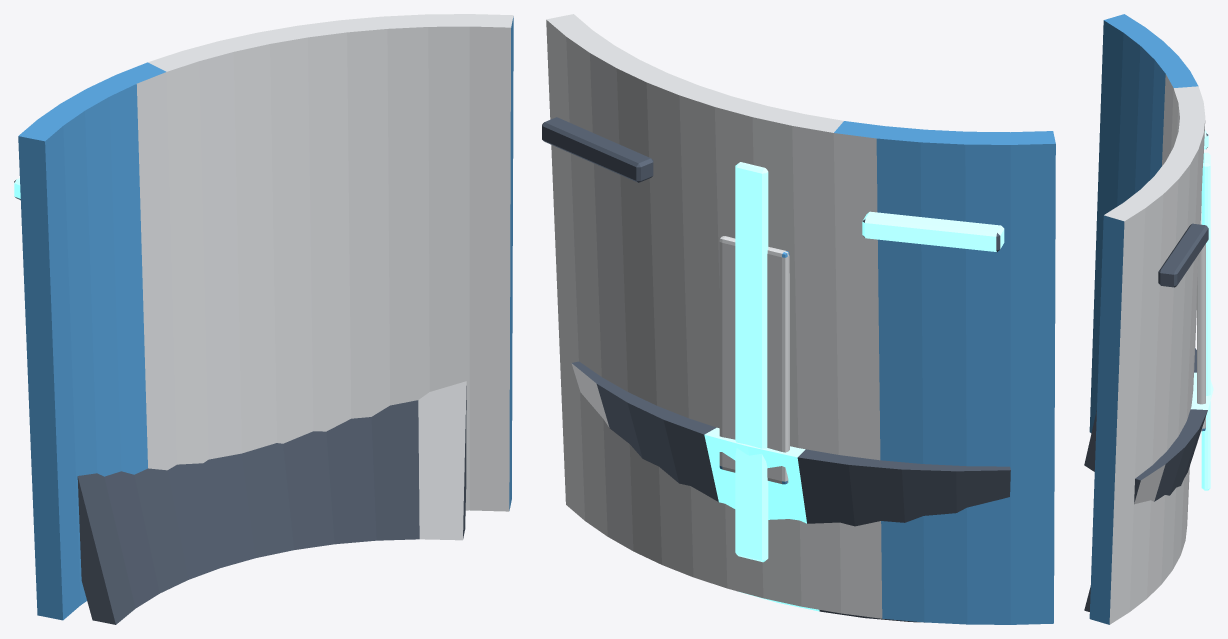
Rendered from back__sleek.glb.
The picture shows the model from 3 angles, left to right: view 1: azimuth 30°, elevation 25°; view 2: azimuth 150°, elevation 25°; view 3: azimuth 270°, elevation 25°; orthographic projection. The views are drawn at different scales.
Parts seen in each view (by area): view 1: armor_back__sleek_v001; view 2: armor_back__sleek_v001; view 3: armor_back__sleek_v001.
Part boxes in pixels (x1,y1,x2,y2): armor_back__sleek_v001: (14, 14, 513, 624); armor_back__sleek_v001: (542, 14, 1055, 624); armor_back__sleek_v001: (1084, 14, 1213, 624).
Bounding box in the file's own units: 0.5452 × 0.515 × 0.144.
